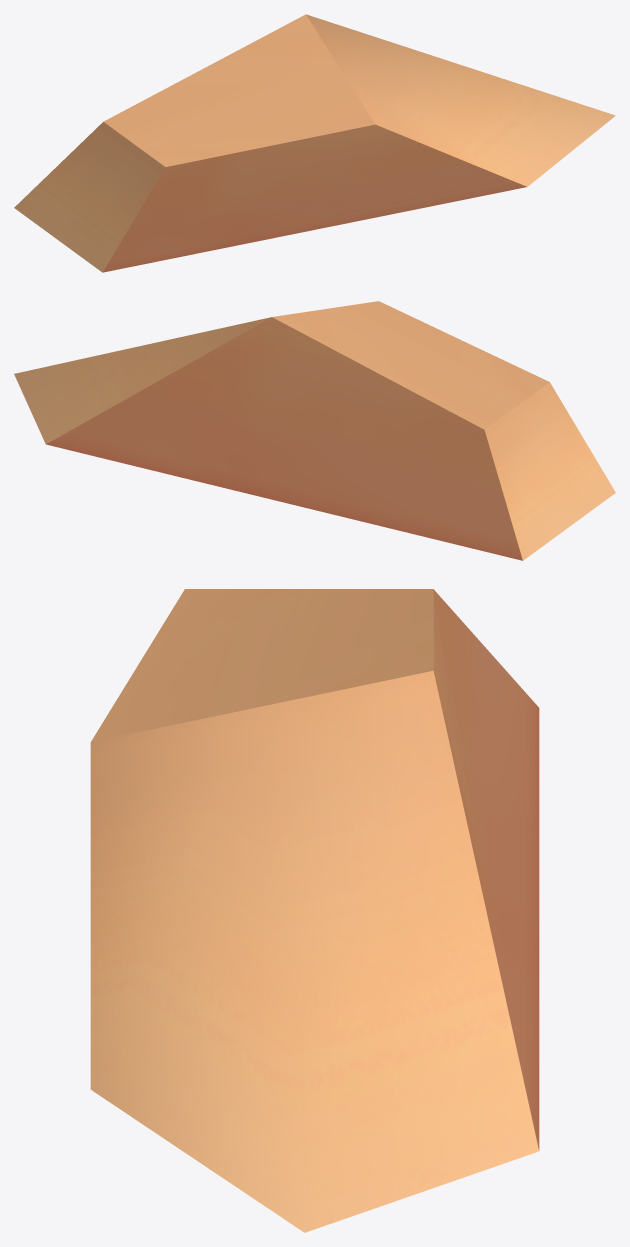
File: deco02.fbx
3 views of the same model, one above another, from view 1: azimuth 30°, elevation 25°; view 2: azimuth 150°, elevation 25°; view 3: azimuth 270°, elevation 25° (orthographic). The views are drawn at different scales.
Parts seen in each view (by area): view 1: pCube2; view 2: pCube2; view 3: pCube2.
Part boxes in pixels (box(x1,y1,x2,y2)): pCube2: box(14, 14, 615, 272); pCube2: box(14, 301, 615, 560); pCube2: box(90, 589, 539, 1232).
Size of the model in its own units: 5.4 by 1.41 by 1.93.
